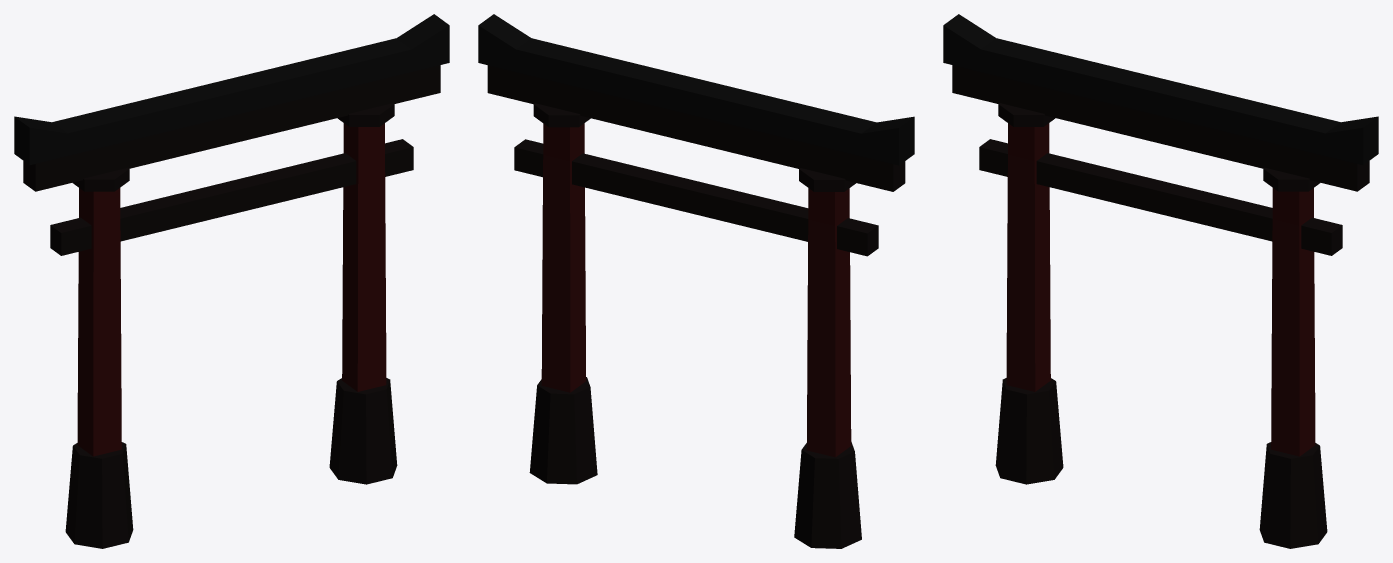
File: gate.obj
3 renders of one model, left to right at view 1: azimuth 30°, elevation 25°; view 2: azimuth 150°, elevation 25°; view 3: azimuth 330°, elevation 25°, orthographic.
Visible parts, largest first — view 1: Gate; view 2: Gate; view 3: Gate.
Part boxes in pixels (box(x1,y1,x2,y2)): Gate: box(14, 14, 449, 548); Gate: box(478, 14, 914, 548); Gate: box(943, 14, 1378, 548).
Bounding box in the file's own units: 9.55 × 9.37 × 1.3.
